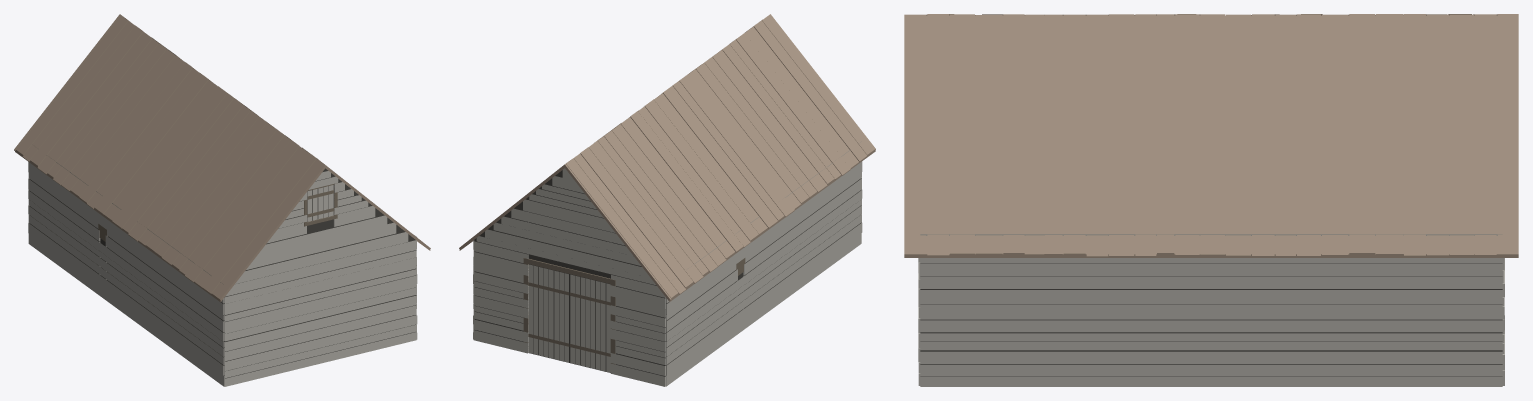
The model's file is recon_1835_blk_randolph_dearborn_a2_08__inferred_1835.glb.
3 views of the same model, side by side, from view 1: azimuth 30°, elevation 25°; view 2: azimuth 150°, elevation 25°; view 3: azimuth 270°, elevation 25° (orthographic). The views are drawn at different scales.
Visible parts, largest first — view 1: recon_1835_blk_randolph_dearborn_a2_08__inferred_1835; view 2: recon_1835_blk_randolph_dearborn_a2_08__inferred_1835; view 3: recon_1835_blk_randolph_dearborn_a2_08__inferred_1835.
Part boxes in pixels (x1=…): recon_1835_blk_randolph_dearborn_a2_08__inferred_1835: x1=14, y1=14, x2=430, y2=386; recon_1835_blk_randolph_dearborn_a2_08__inferred_1835: x1=459, y1=14, x2=875, y2=386; recon_1835_blk_randolph_dearborn_a2_08__inferred_1835: x1=904, y1=14, x2=1518, y2=386.
Bounding box in the file's own units: 7.46 × 6.79 × 12.5.
